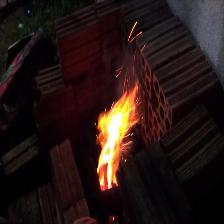fire: (92, 51, 148, 200)
